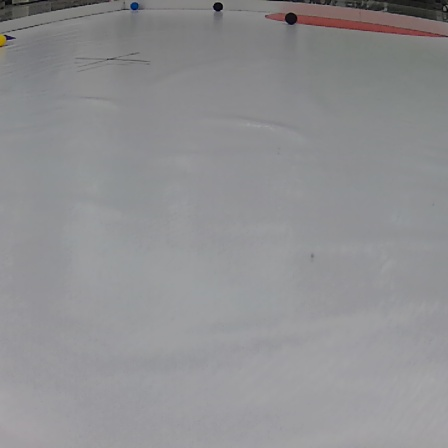black: (286, 11, 298, 27), (211, 1, 224, 13)
blue: (127, 1, 141, 11)
red_base: (264, 7, 448, 40)
